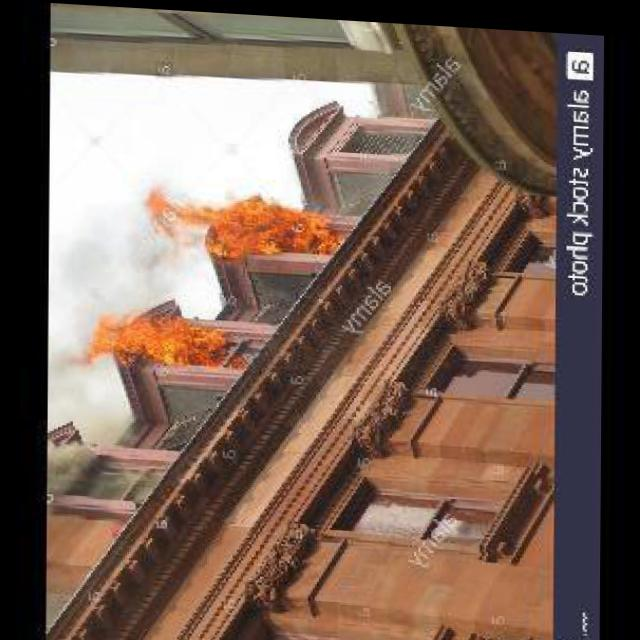Fire: (114, 164, 347, 279), (92, 295, 238, 388)
